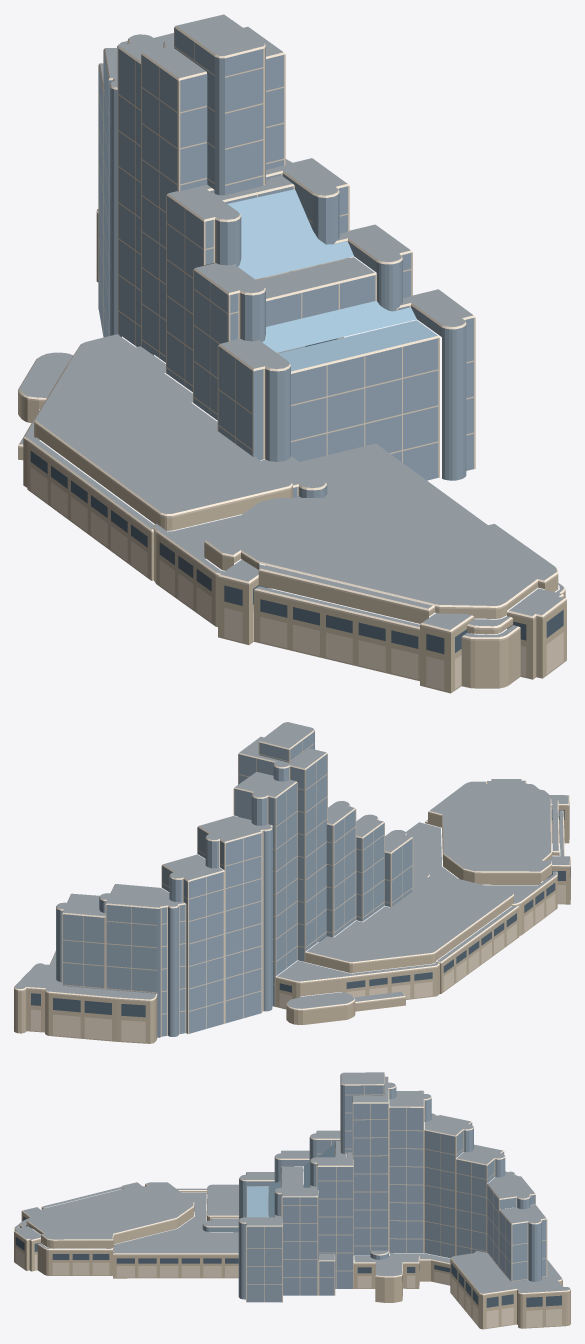
The model's file is dal-hyatt-regency.glb.
3 renders of one model, top to bottom at view 1: azimuth 30°, elevation 25°; view 2: azimuth 150°, elevation 25°; view 3: azimuth 270°, elevation 25°, orthographic. The views are drawn at different scales.
Visible parts, largest first — view 1: Hyatt Regency Dallas; view 2: Hyatt Regency Dallas; view 3: Hyatt Regency Dallas.
Boxes of the visible parts, <box> form: Hyatt Regency Dallas: <box>18,14,566,693</box>; Hyatt Regency Dallas: <box>14,722,570,1043</box>; Hyatt Regency Dallas: <box>14,1072,570,1329</box>.
Size of the model in its own units: 133 by 102 by 269.
